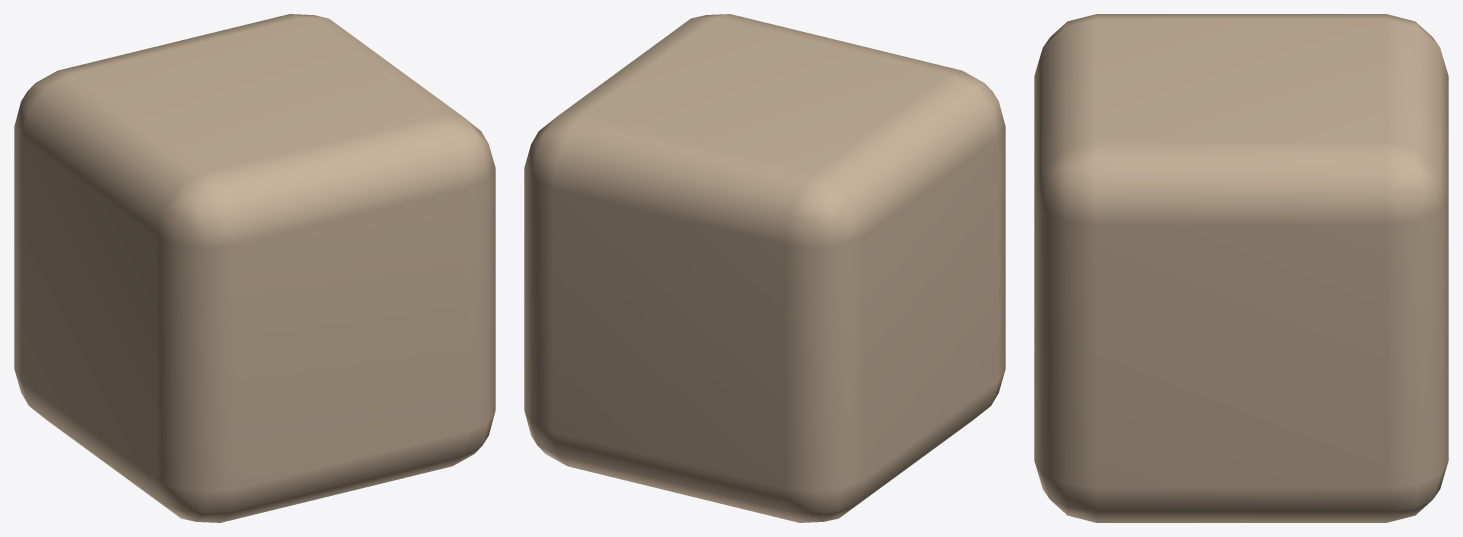
The model's file is fillTile_mesh.fbx.
3 renders of one model, left to right at view 1: azimuth 30°, elevation 25°; view 2: azimuth 150°, elevation 25°; view 3: azimuth 270°, elevation 25°, orthographic. The views are drawn at different scales.
Parts seen in each view (by area): view 1: fillTile_mesh; view 2: fillTile_mesh; view 3: fillTile_mesh.
Boxes of the visible parts, bbox=[...] form: fillTile_mesh: bbox=[14, 14, 495, 522]; fillTile_mesh: bbox=[524, 14, 1005, 522]; fillTile_mesh: bbox=[1034, 14, 1448, 522].
Size of the model in its own units: 1 by 1 by 1.
